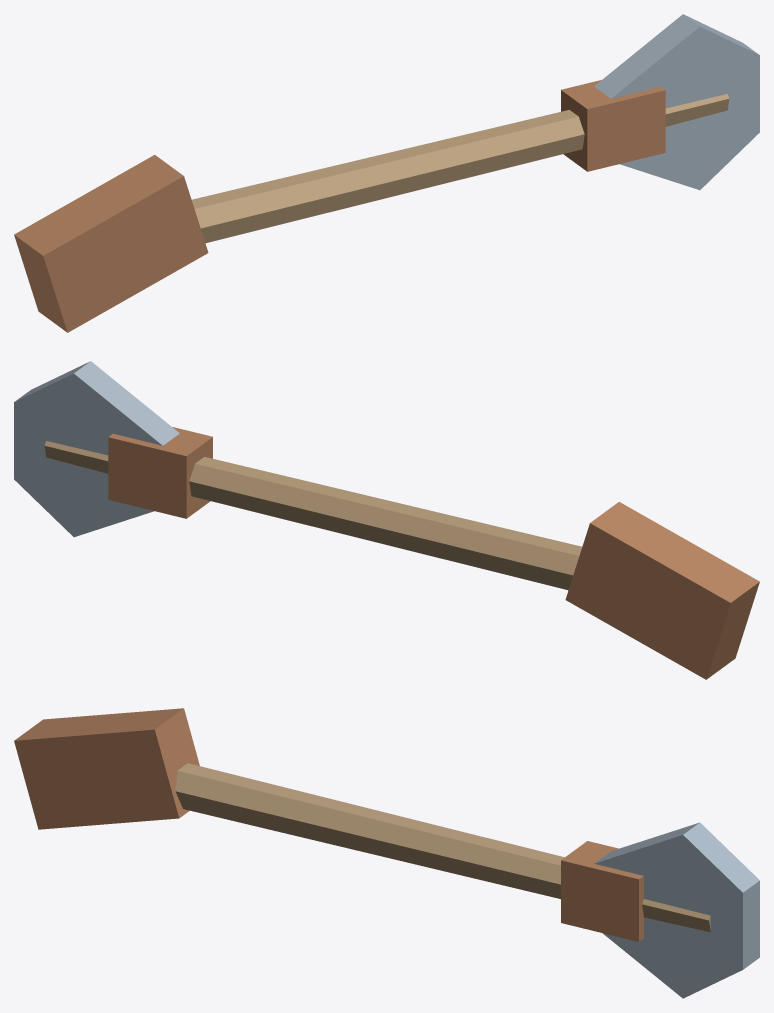
The model's file is wipe-day-survival-island-salvaged-hatchet-95ffb0d4__27482.glb.
The picture shows the model from 3 angles, top to bottom: view 1: azimuth 30°, elevation 25°; view 2: azimuth 150°, elevation 25°; view 3: azimuth 330°, elevation 25°; orthographic projection.
Parts seen in each view (by area): view 1: salvaged-hatchet; view 2: salvaged-hatchet; view 3: salvaged-hatchet.
Boxes of the visible parts, box(x1,y1,x2,y2) form: salvaged-hatchet: box(14, 14, 759, 332); salvaged-hatchet: box(14, 361, 759, 679); salvaged-hatchet: box(14, 708, 759, 998).
Size of the model in its own units: 0.7847 by 0.17 by 0.055.
